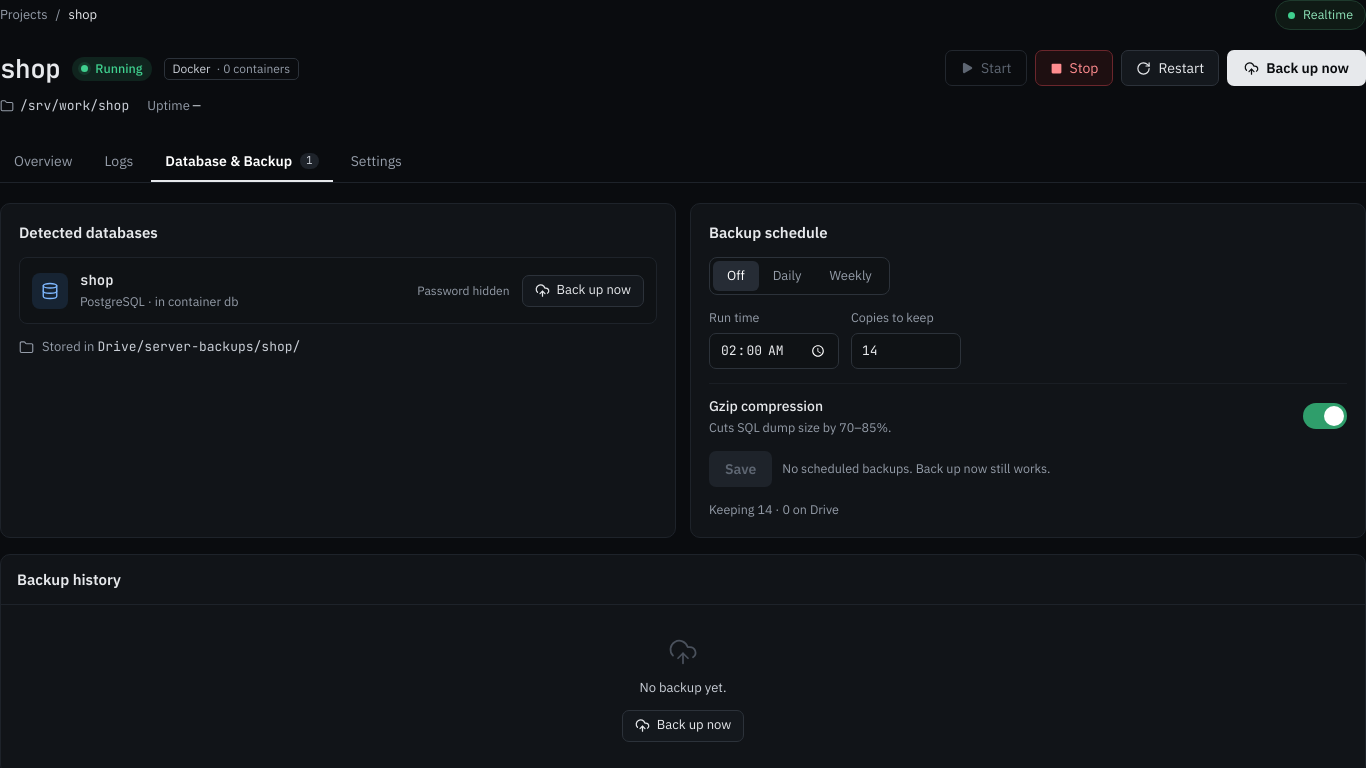
Test: backup history › says when there is no backup yet, with Back up now
This screenshot has width=1366, height=768.
Check: the text "No backup yet." is shown, box [640, 679, 726, 698]
Click the button "Back up now" below "No backup yet.": click(683, 726) [622, 710, 744, 742]
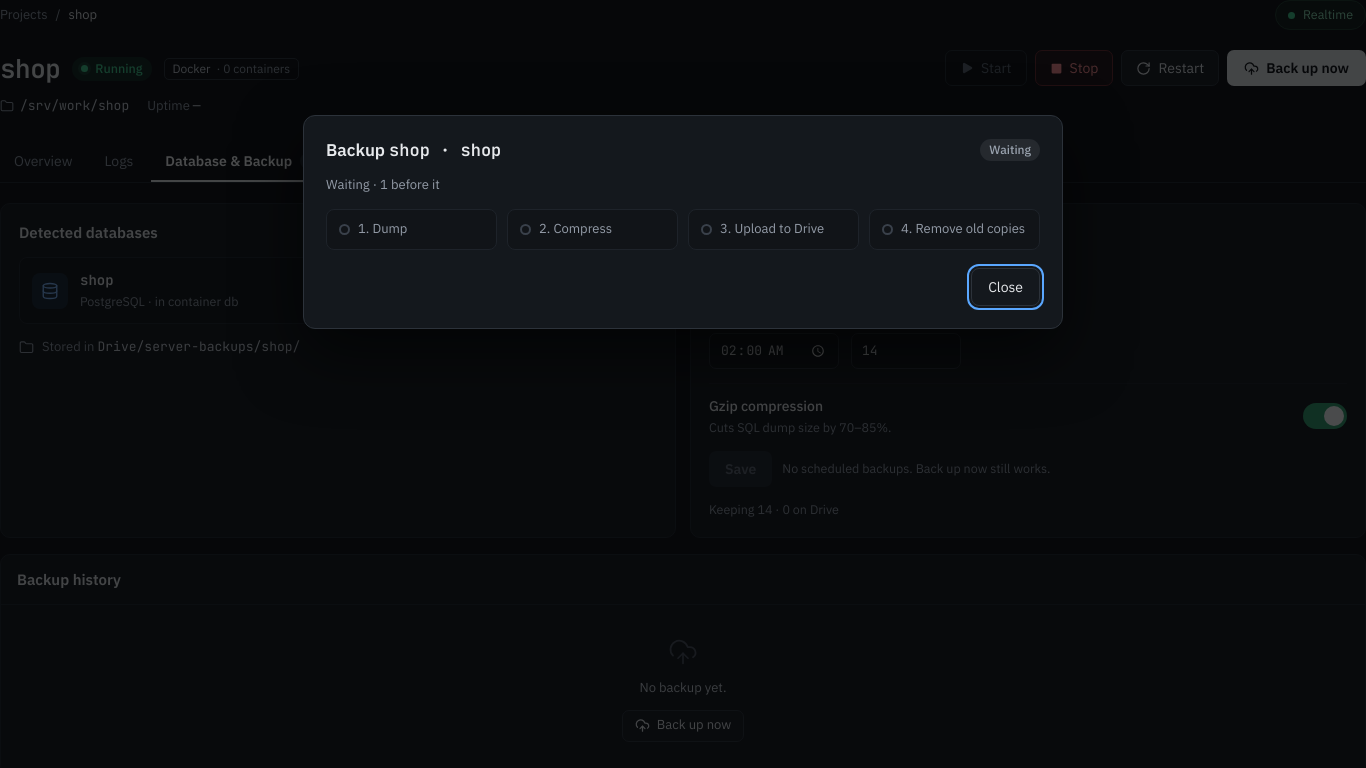
Check: the dialog "Backup shop · shop" is shown, box [303, 115, 1063, 329]
